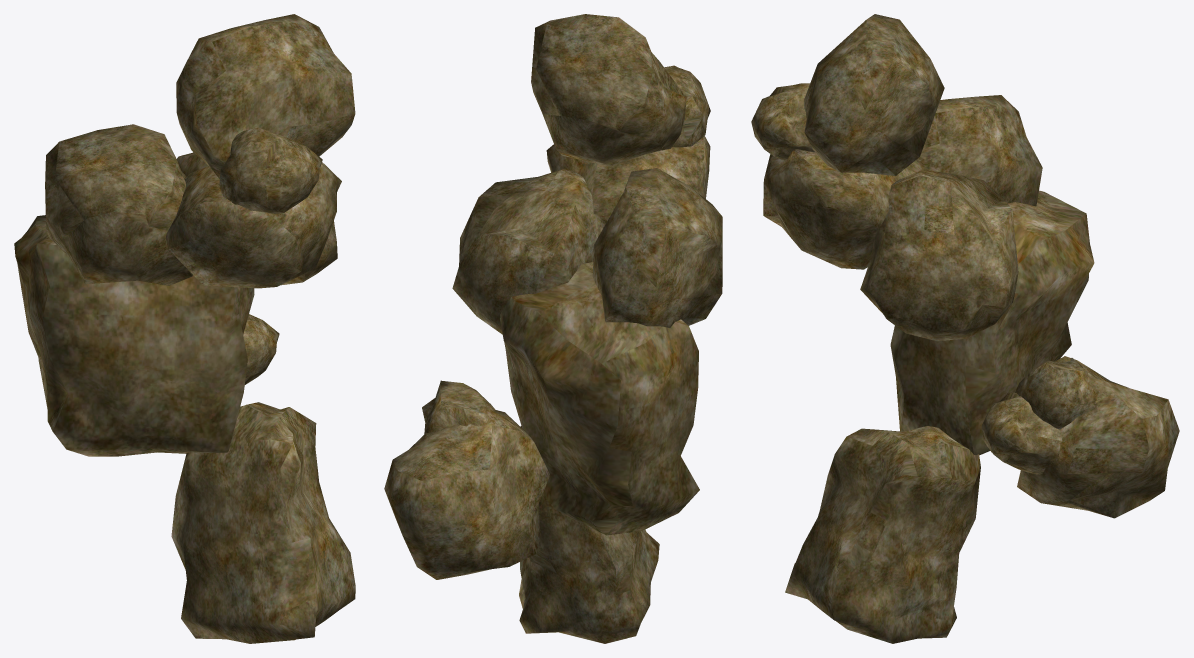
Rendered from FALLING_ROCKS.fbx.
The picture shows the model from 3 angles, left to right: view 1: azimuth 30°, elevation 25°; view 2: azimuth 150°, elevation 25°; view 3: azimuth 270°, elevation 25°; orthographic projection. The views are drawn at different scales.
Parts seen in each view (by area): view 1: FALLING_ROCKS; view 2: FALLING_ROCKS; view 3: FALLING_ROCKS.
Boxes of the visible parts, x1=… form: FALLING_ROCKS: x1=14, y1=14, x2=355, y2=643; FALLING_ROCKS: x1=384, y1=14, x2=722, y2=643; FALLING_ROCKS: x1=751, y1=14, x2=1179, y2=643.
Size of the model in its own units: 36881 by 84860 by 55047.
Materials: 1 (1 with a texture image).
